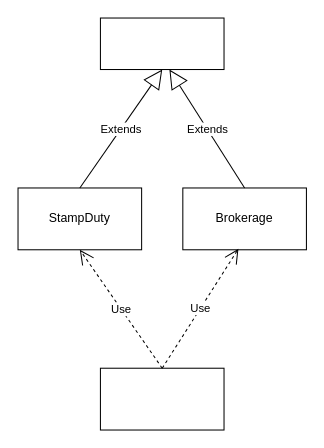
Some shapes in this 324 by 448 pixel diagram are drawn without their labels. Each missing label, with the box of its shape:
BaseDisbursement: (99, 17, 224, 70)
Factory: (99, 367, 224, 430)
